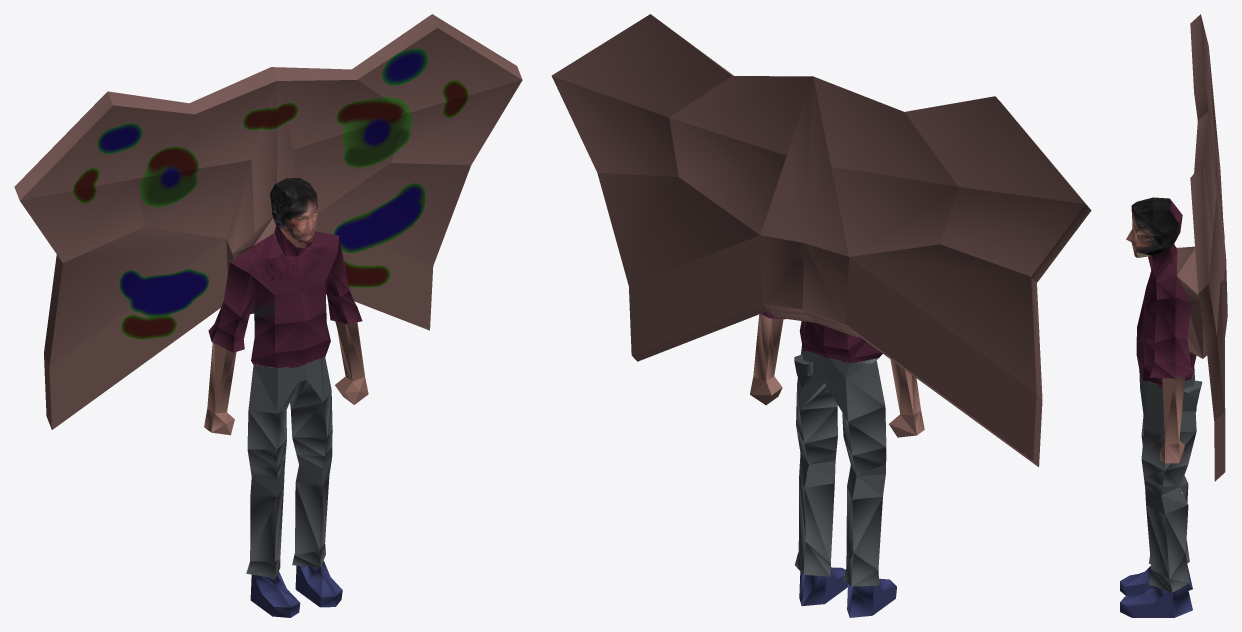
Rendered from monster.fbx.
The picture shows the model from 3 angles, left to right: view 1: azimuth 30°, elevation 25°; view 2: azimuth 150°, elevation 25°; view 3: azimuth 270°, elevation 25°; orthographic projection. The views are drawn at different scales.
Parts seen in each view (by area): view 1: Object_34.001; view 2: Object_34.001; view 3: Object_34.001.
Boxes of the visible parts, x1,y1,x2,y2 form: Object_34.001: (14, 14, 522, 617); Object_34.001: (551, 14, 1091, 617); Object_34.001: (1120, 14, 1227, 617).
Bounding box in the file's own units: 220 × 222 × 42.41.
Materials: 3 (3 with a texture image).
